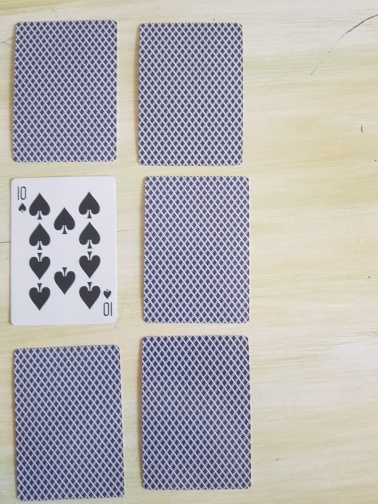ten: (9, 175, 119, 327)
